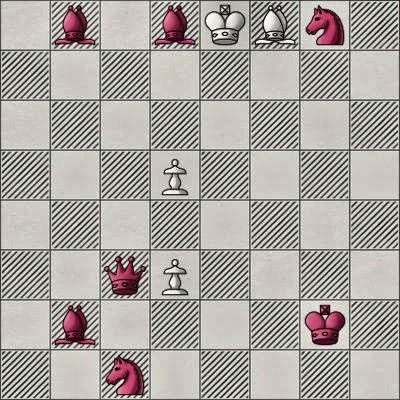black-bishop: (50, 0, 100, 50), (150, 0, 200, 50), (50, 300, 100, 350)
black-king: (300, 300, 350, 350)
black-knight: (300, 0, 350, 50), (100, 350, 150, 400)
black-queen: (100, 250, 150, 300)
white-bishop: (250, 0, 300, 50)
white-king: (200, 0, 250, 50)
white-pawn: (150, 150, 200, 200), (150, 250, 200, 300)
